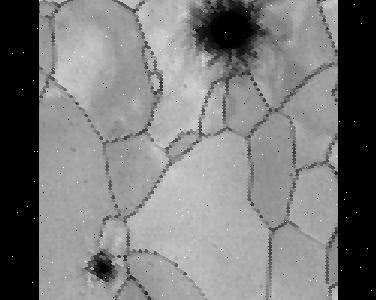good_void: (176, 0, 291, 76), (78, 250, 120, 287), (67, 146, 76, 154), (116, 253, 122, 259), (82, 180, 89, 185), (181, 84, 187, 89)
